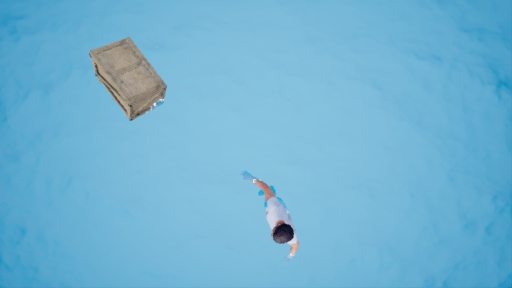person: (246, 170, 301, 264)
